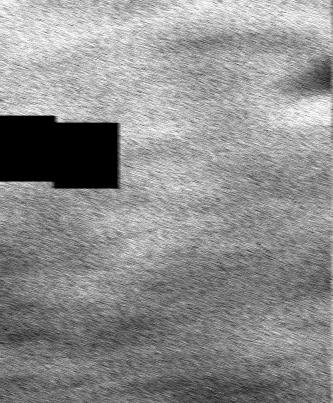Airbag: (0, 0, 332, 403), (332, 0, 333, 403)
